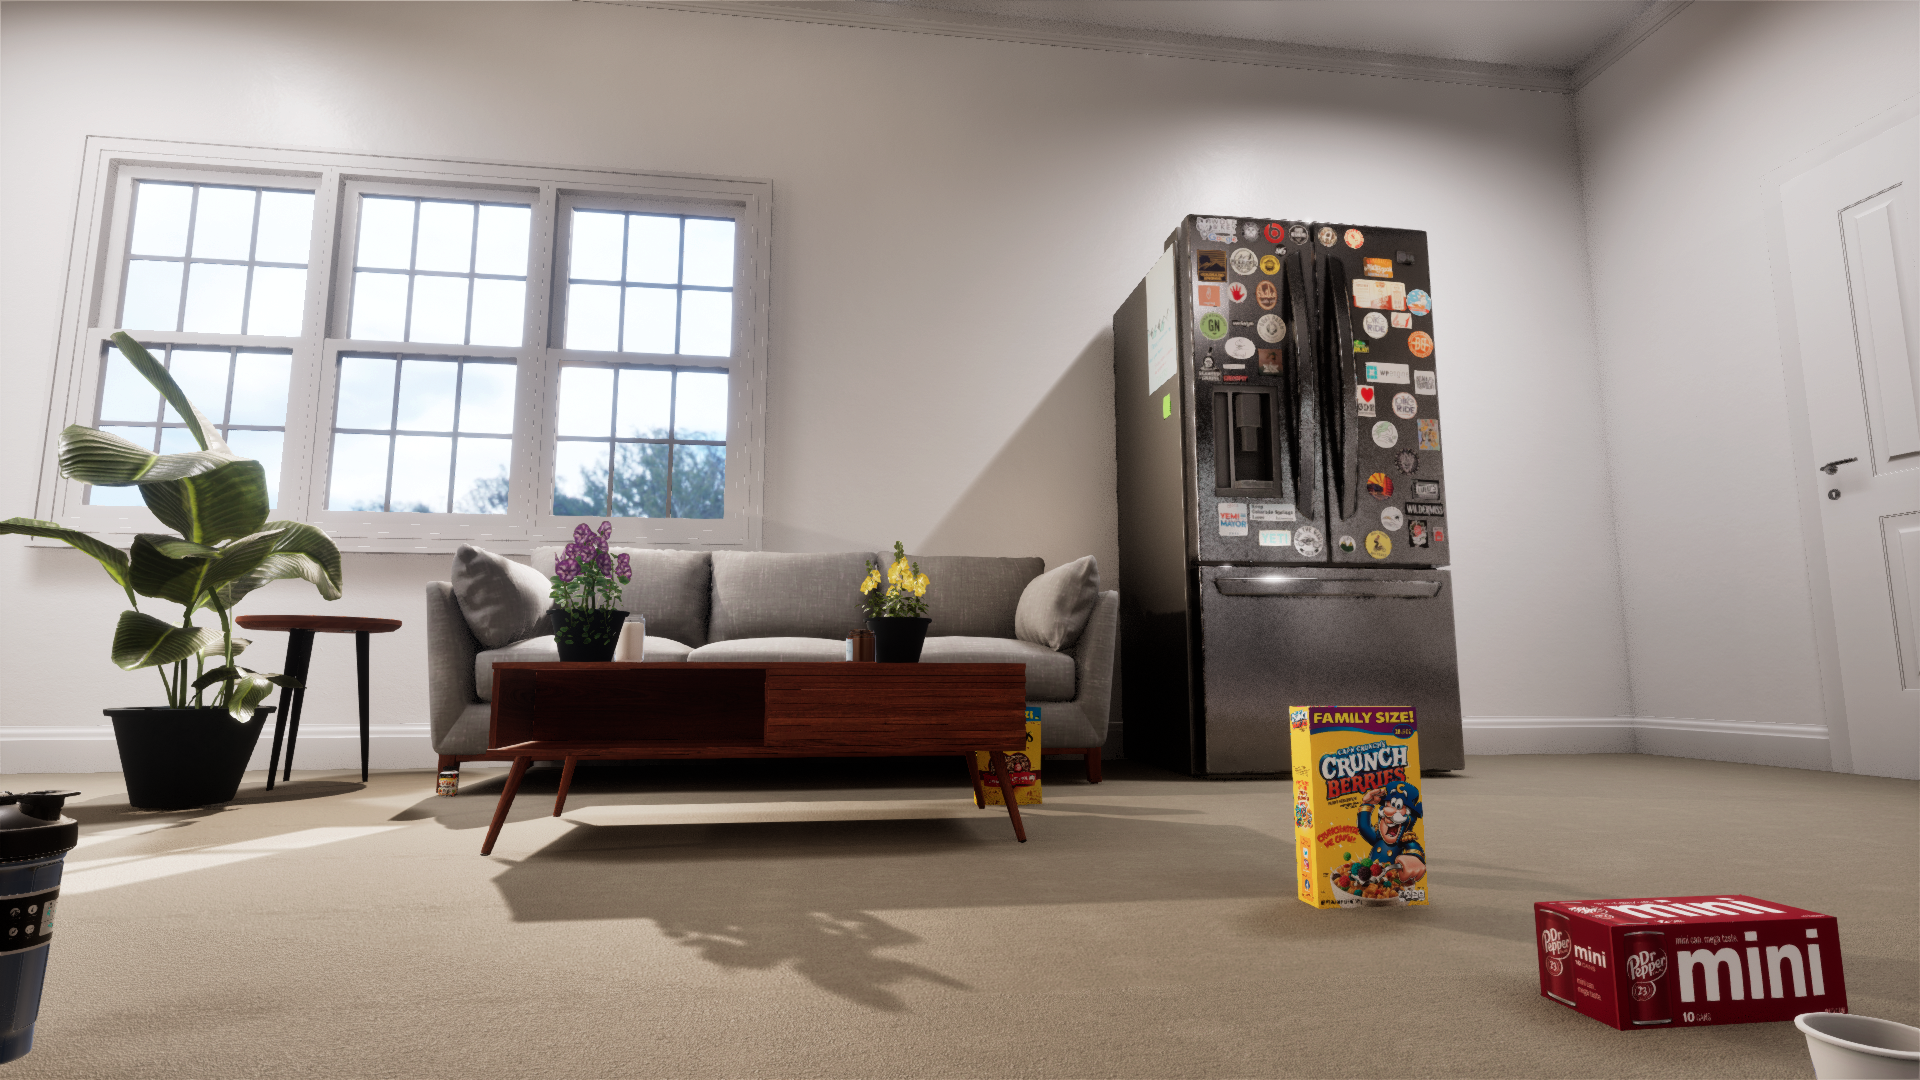cheerios: (975, 707, 1042, 804)
